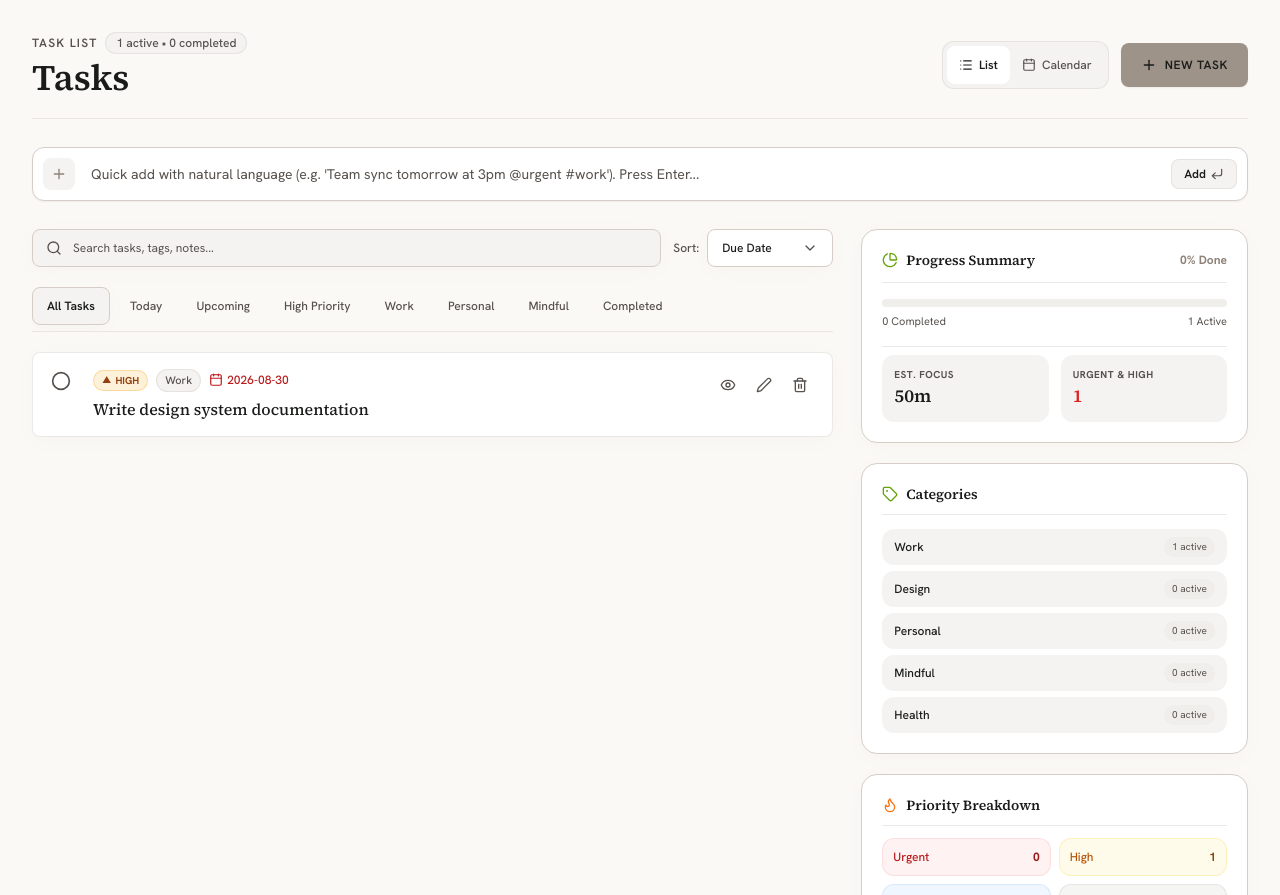
Test case: TasksView Component › switches between list and calendar views
Click the button "Calendar".
click(1057, 65)  # box [1010,46,1104,84]
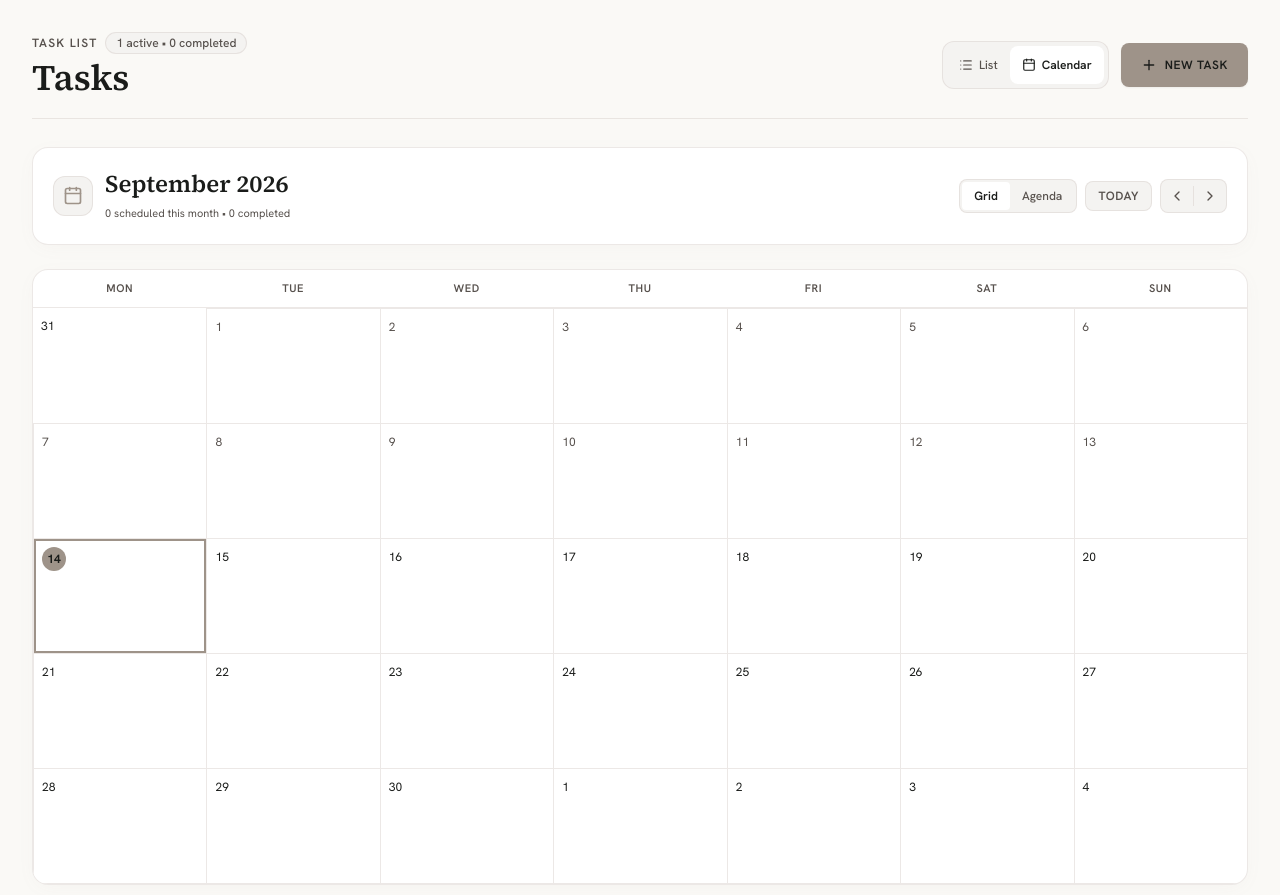
Expected: the button "Today" is shown, [1085,181,1152,211]
Expected: the text "Mon" is shown, [106,281,133,295]
Click the button "List".
click(978, 65)  # box [947,46,1010,84]
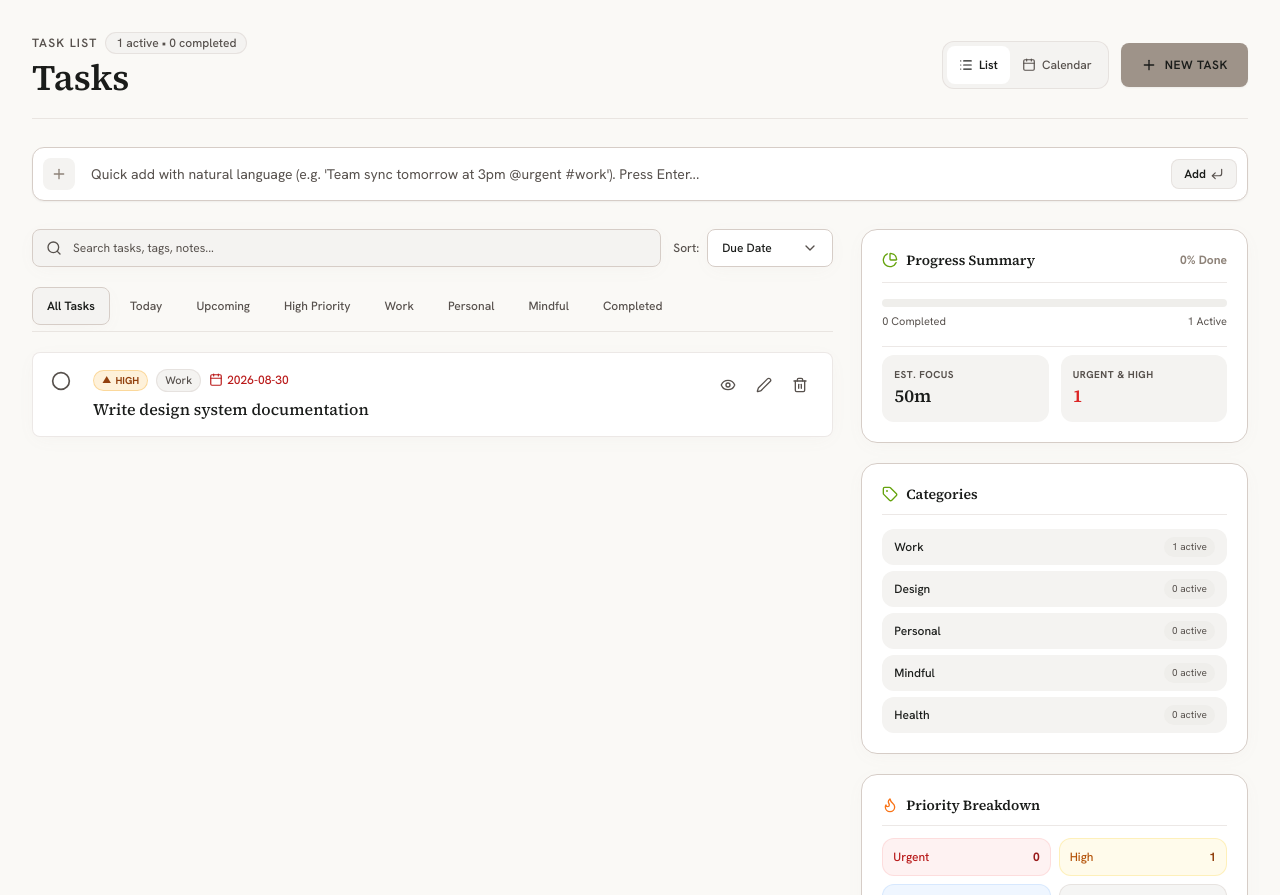
Expected: the tab "All Tasks" is shown, [32,287,110,325]
